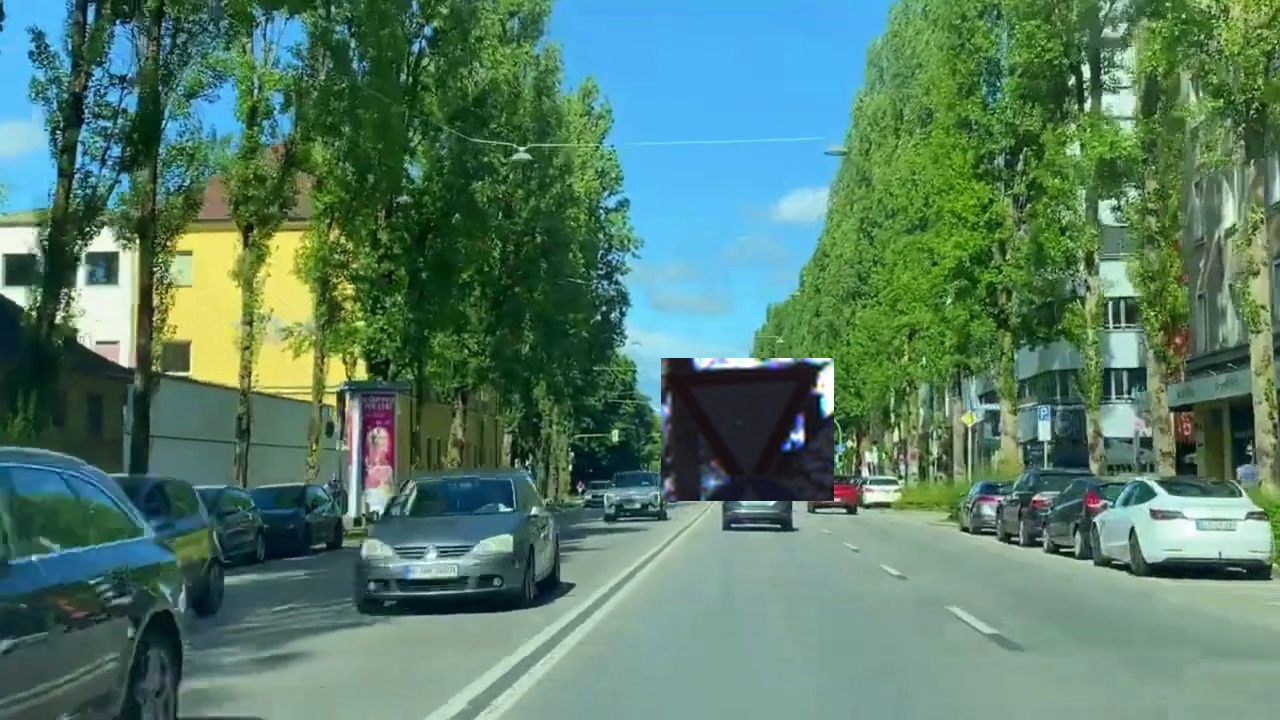Yield: (661, 358, 834, 501)
